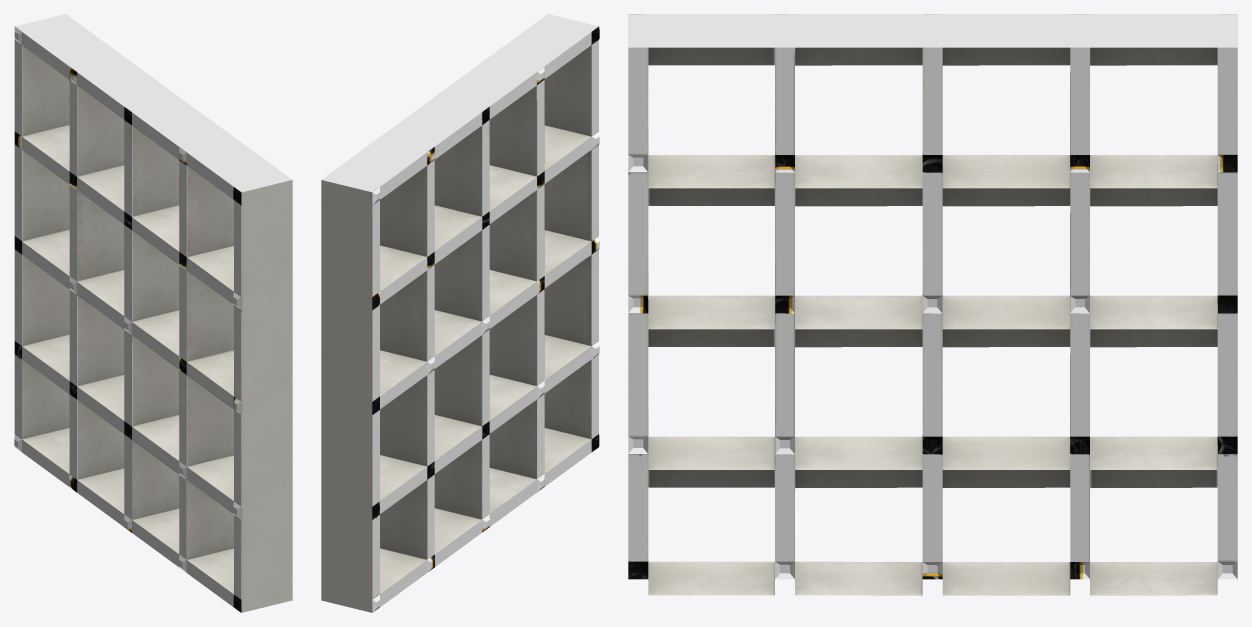
The model's file is ShoeCubby.001.fbx.
3 renders of one model, left to right at view 1: azimuth 30°, elevation 25°; view 2: azimuth 150°, elevation 25°; view 3: azimuth 270°, elevation 25°, orthographic. The views are drawn at different scales.
Visible parts, largest first — view 1: Shoe Shelves; view 2: Shoe Shelves; view 3: Shoe Shelves.
Part boxes in pixels (left/top/right/bottom): Shoe Shelves: left=14, top=14, right=292, bottom=612; Shoe Shelves: left=321, top=14, right=599, bottom=612; Shoe Shelves: left=628, top=14, right=1237, bottom=595.
Size of the model in its own units: 1.01 by 7.37 by 7.55.
